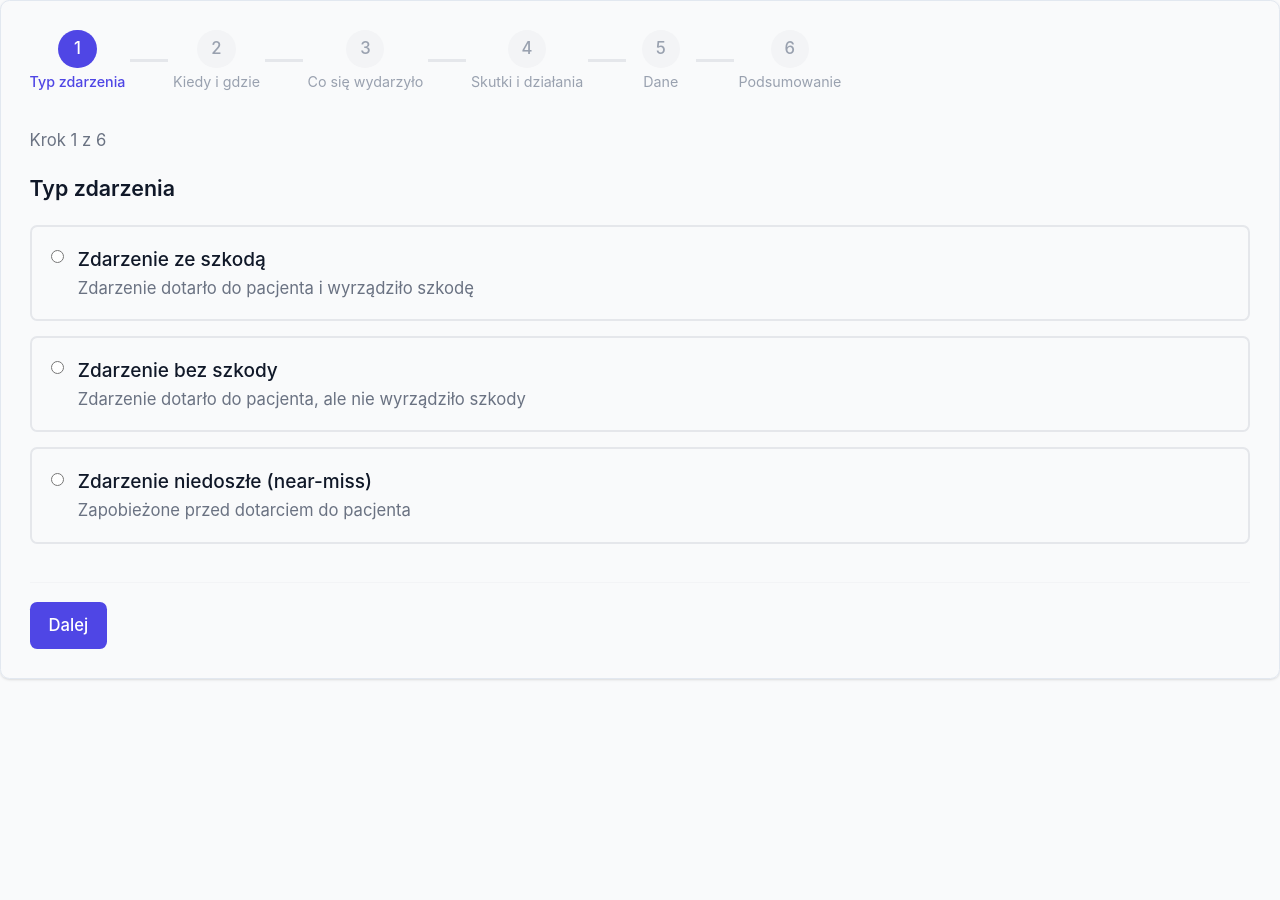
IncidentForm › can go back from step 2 to step 1
This screenshot has width=1280, height=900.
Click the radio button labelled "Zdarzenie ze szkodą": x=57, y=257 [51,250,64,263]
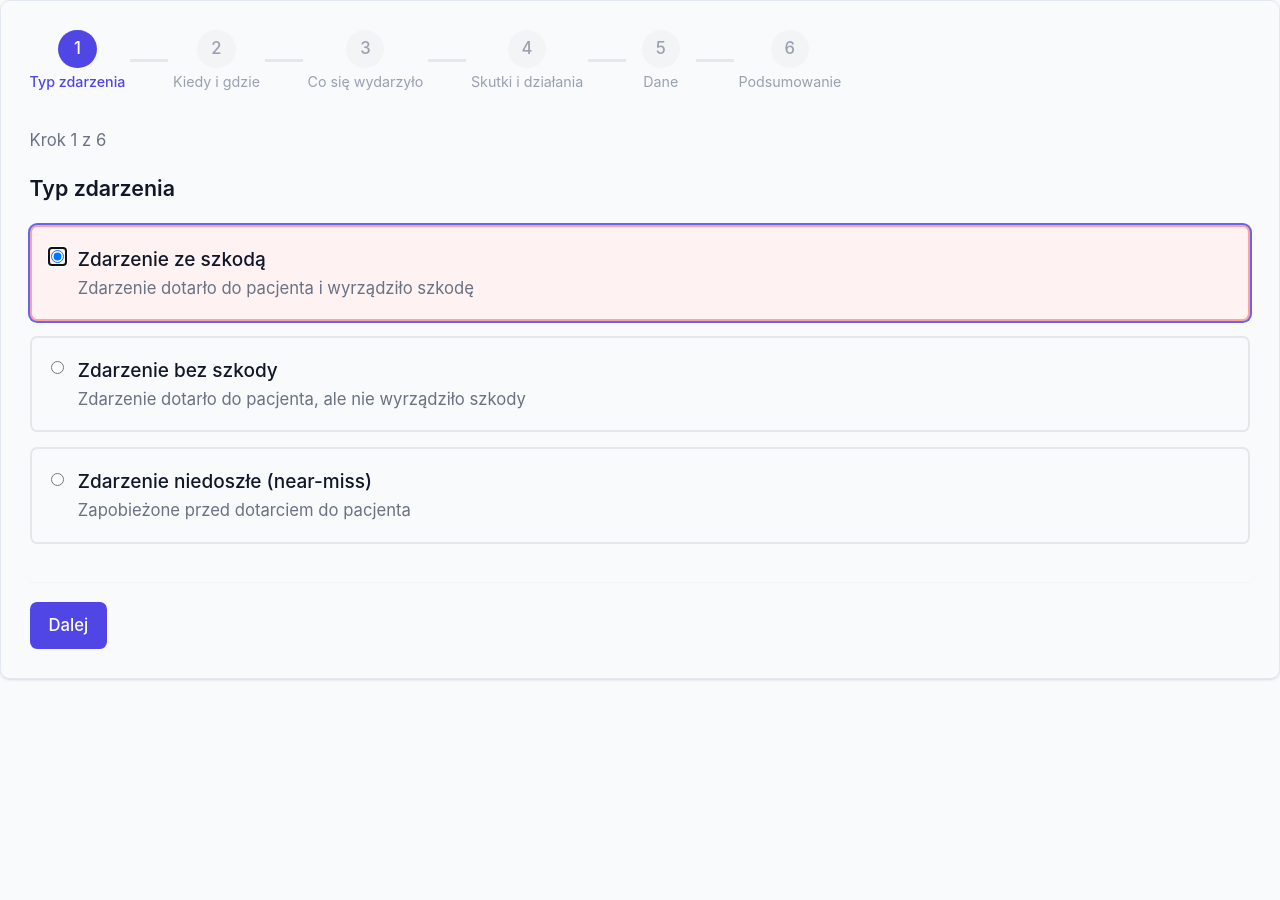
Click the button "Dalej": x=68, y=625 [30,602,107,649]
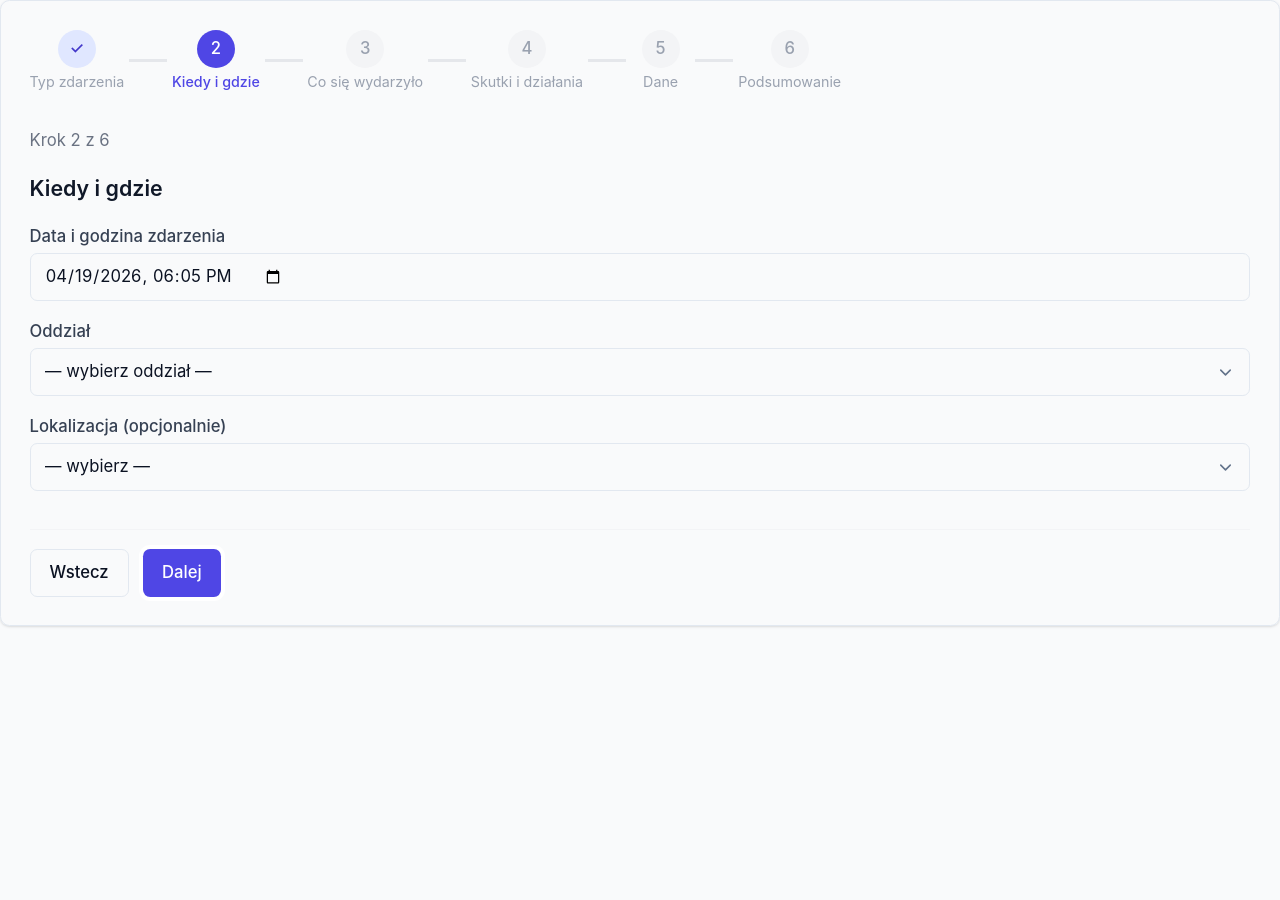
Check: the element "Kiedy i gdzie" is shown, box [30,172,1250,491]
Click the button "Wstecz": x=79, y=573 [30,549,129,597]
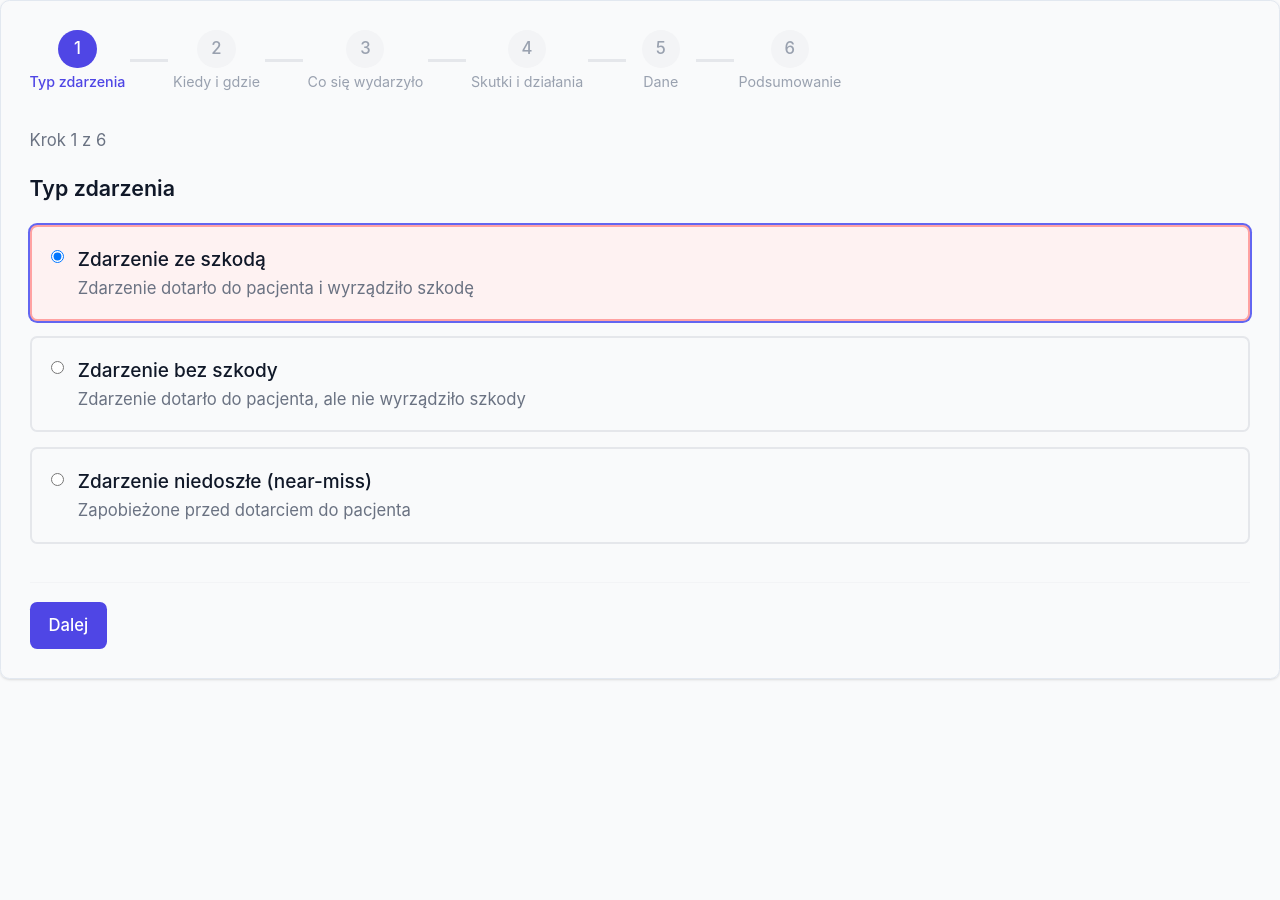
Check: the element "Typ zdarzenia" is shown, box [30,172,1250,544]
